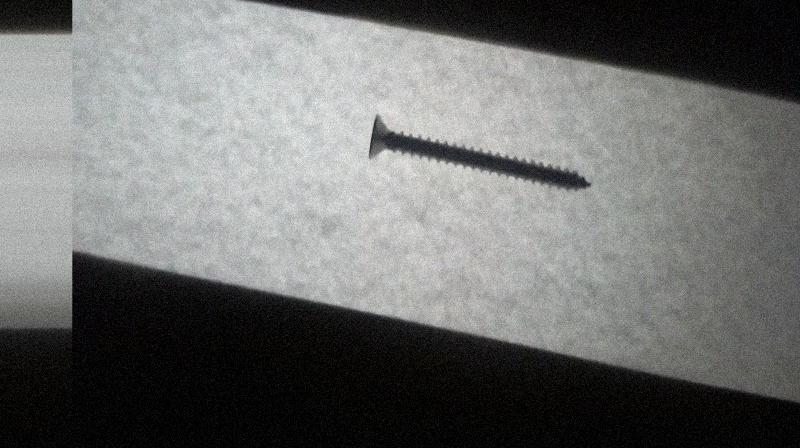S002: (366, 112, 595, 194)
